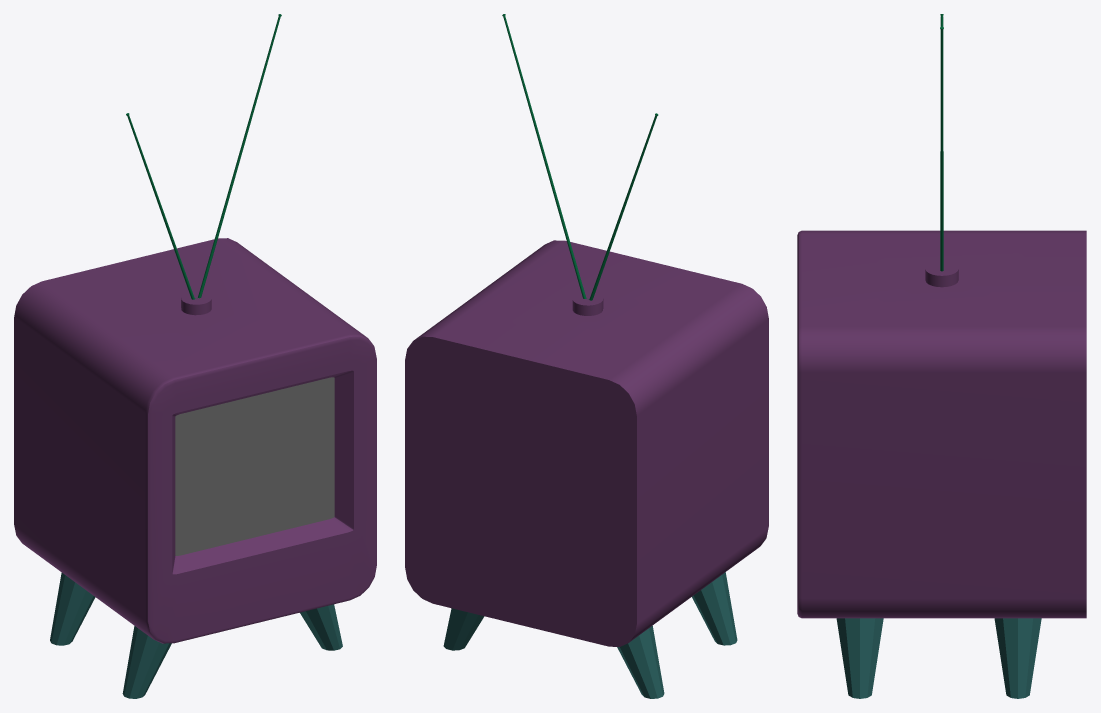
The picture shows the model from 3 angles, left to right: view 1: azimuth 30°, elevation 25°; view 2: azimuth 150°, elevation 25°; view 3: azimuth 270°, elevation 25°; orthographic projection. The views are drawn at different scales.
Parts seen in each view (by area): view 1: pCylinder15; view 2: pCylinder15; view 3: pCylinder15.
Boxes of the visible parts, x1=… form: pCylinder15: x1=14, y1=14, x2=376, y2=698; pCylinder15: x1=405, y1=14, x2=768, y2=698; pCylinder15: x1=797, y1=14, x2=1086, y2=698.
Bounding box in the file's own units: 10.49 × 26.36 × 10.49.
